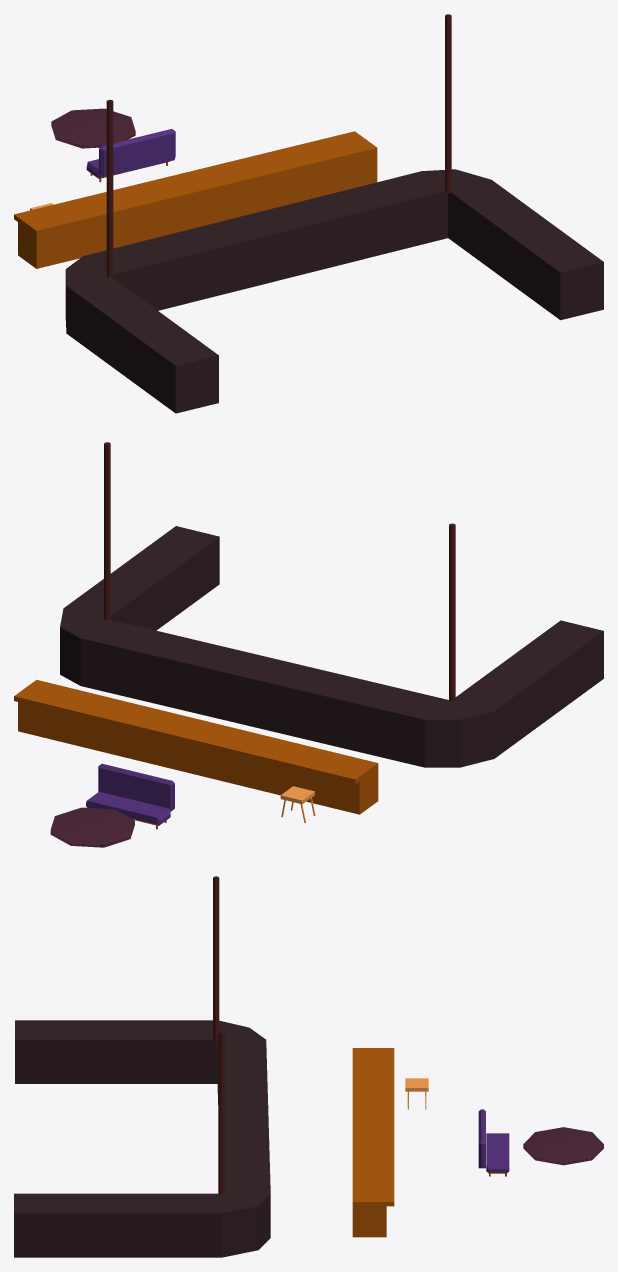
File: Assets-bar.fbx
The picture shows the model from 3 angles, top to bottom: view 1: azimuth 30°, elevation 25°; view 2: azimuth 150°, elevation 25°; view 3: azimuth 270°, elevation 25°; orthographic projection. The views are drawn at different scales.
Visible parts, largest first — view 1: stand, Table.001, Sofa.001, table small; view 2: stand, Table.001, Sofa.001, table small, chair; view 3: stand, Table.001, table small, Sofa.001.
Part boxes in pixels (bbox=[...]): stand: bbox=[65, 14, 603, 413]; Table.001: bbox=[14, 131, 377, 268]; Sofa.001: bbox=[86, 129, 175, 182]; table small: bbox=[51, 108, 135, 148]; stand: bbox=[60, 442, 603, 767]; Table.001: bbox=[14, 679, 378, 814]; Sofa.001: bbox=[86, 763, 174, 829]; table small: bbox=[50, 807, 134, 847]; chair: bbox=[280, 786, 315, 822]; stand: bbox=[14, 876, 270, 1257]; Table.001: bbox=[352, 1048, 394, 1237]; table small: bbox=[523, 1127, 603, 1165]; Sofa.001: bbox=[478, 1109, 509, 1176].
Size of the model in its own units: 4010 by 1996 by 5174.
